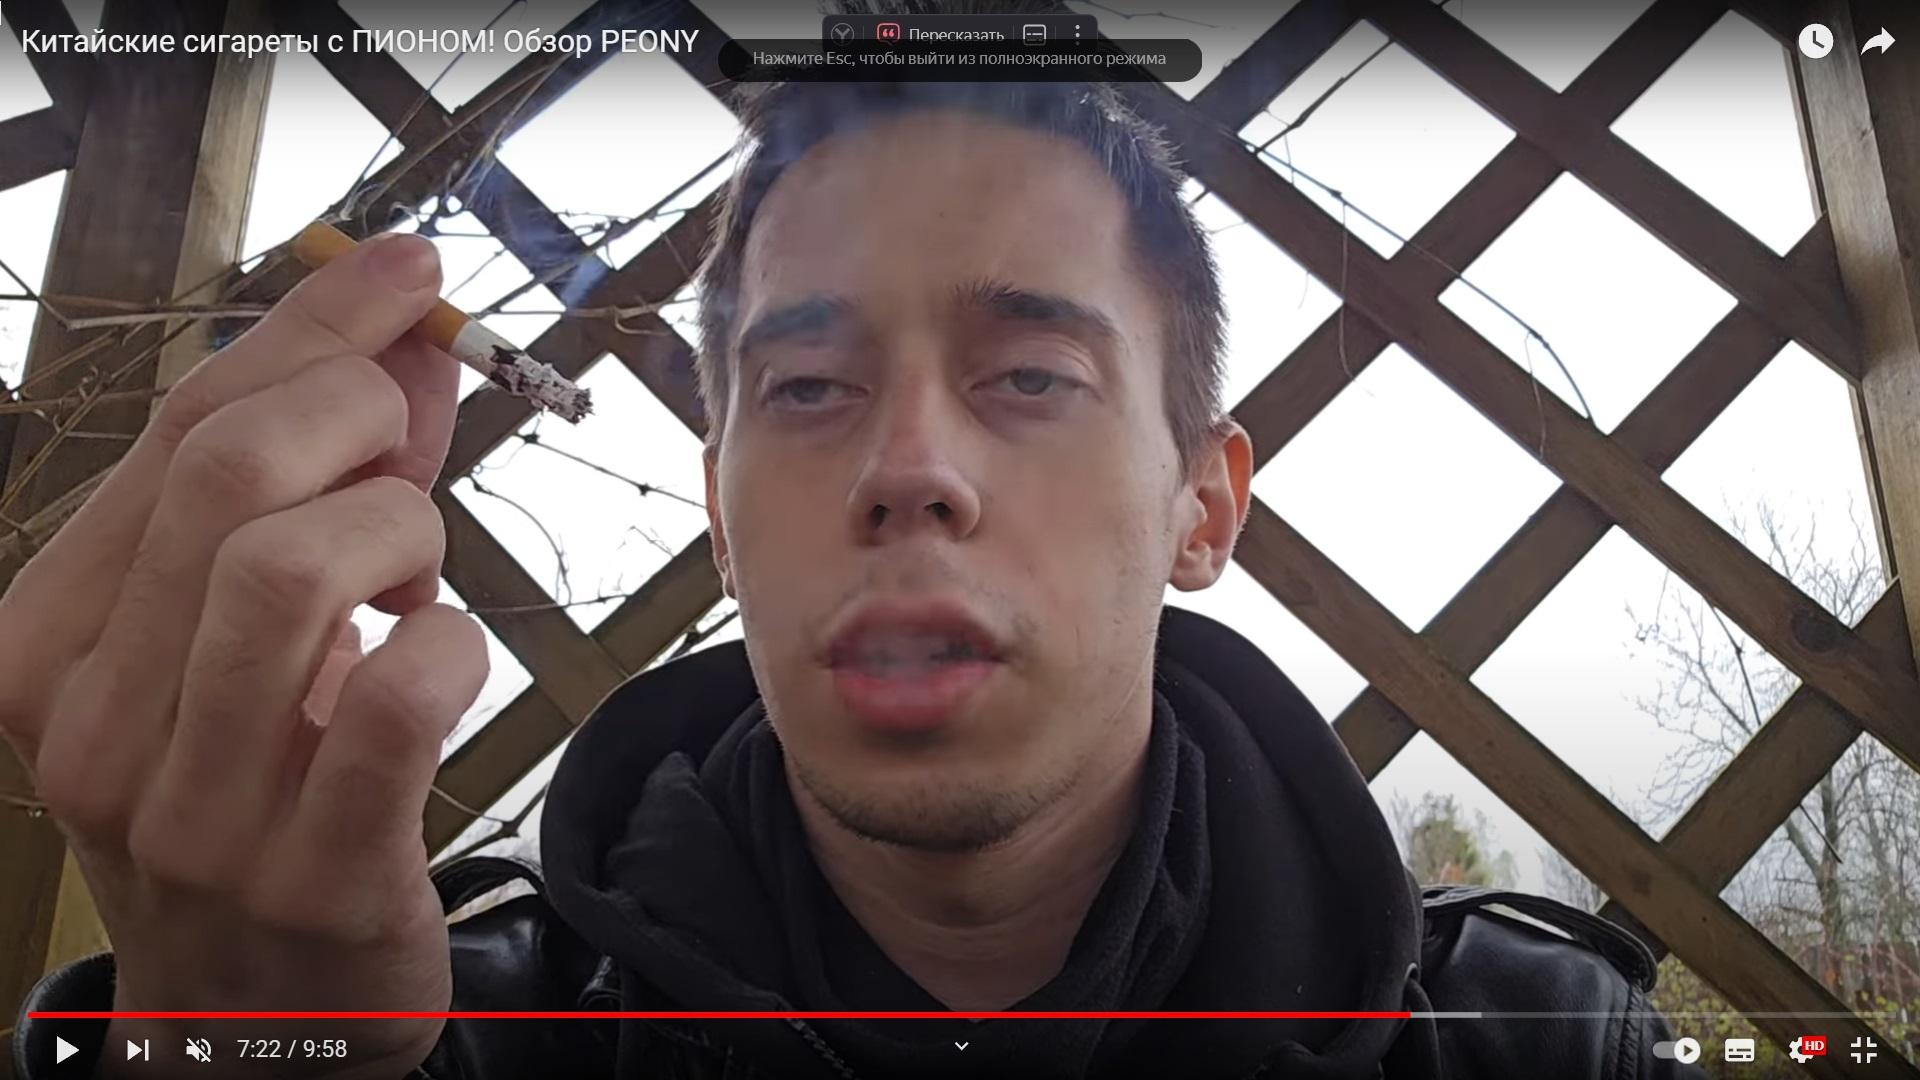cigarette: (291, 219, 592, 425)
